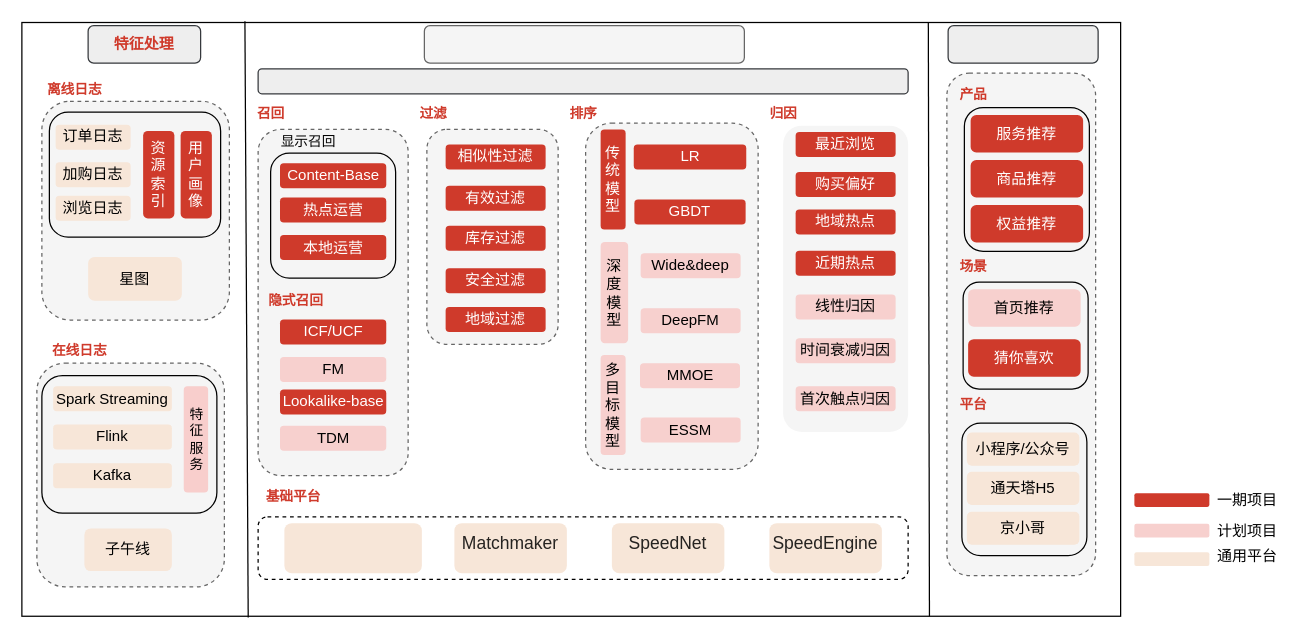
Some shapes in this 1306 by 641 pixel diagram are drawn without their labels. The shapes that lost their labels are listed below. From the top down, each one's centre as x and y in pixels, then its label:
[583,43]: 营销算法引擎v1.0
[1022,43]: 应用场景
[582,81]: 组件化、分阶段自由可搭配
[352,547]: Galileo Graph
